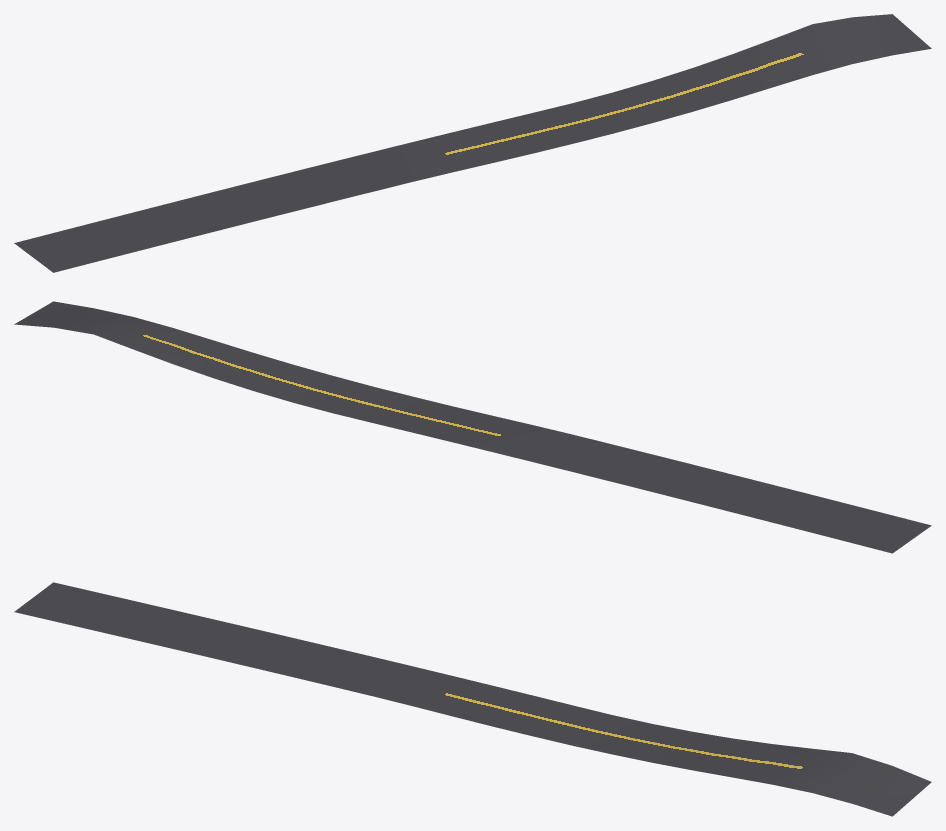
Rendered from tile_-500_500.glb.
3 views of the same model, one above another, from view 1: azimuth 30°, elevation 25°; view 2: azimuth 150°, elevation 25°; view 3: azimuth 330°, elevation 25° (orthographic).
Parts seen in each view (by area): view 1: tile; view 2: tile; view 3: tile.
Part boxes in pixels (x1,y1,x2,y2): tile: [14, 14, 931, 272]; tile: [14, 301, 931, 553]; tile: [14, 582, 931, 816].
Bounding box in the file's own units: 90 × 2.45 × 7.
Materials: 1 (1 with a texture image).
